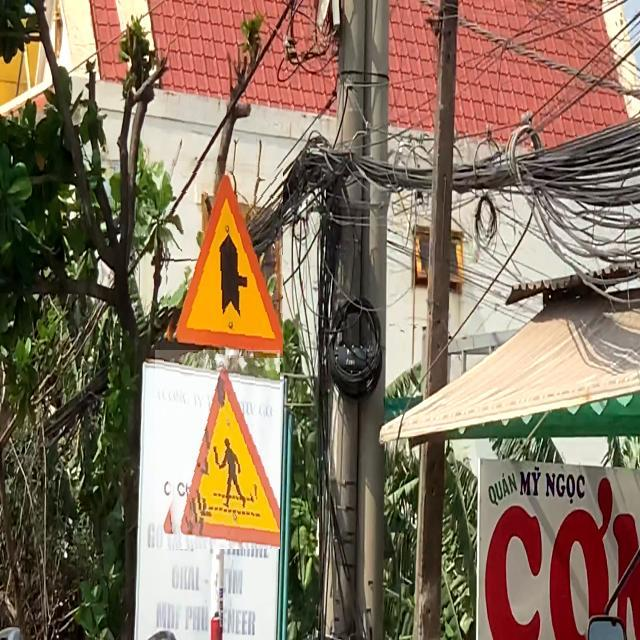W-207b: (160, 161, 283, 358)
W-224: (155, 350, 280, 549)
